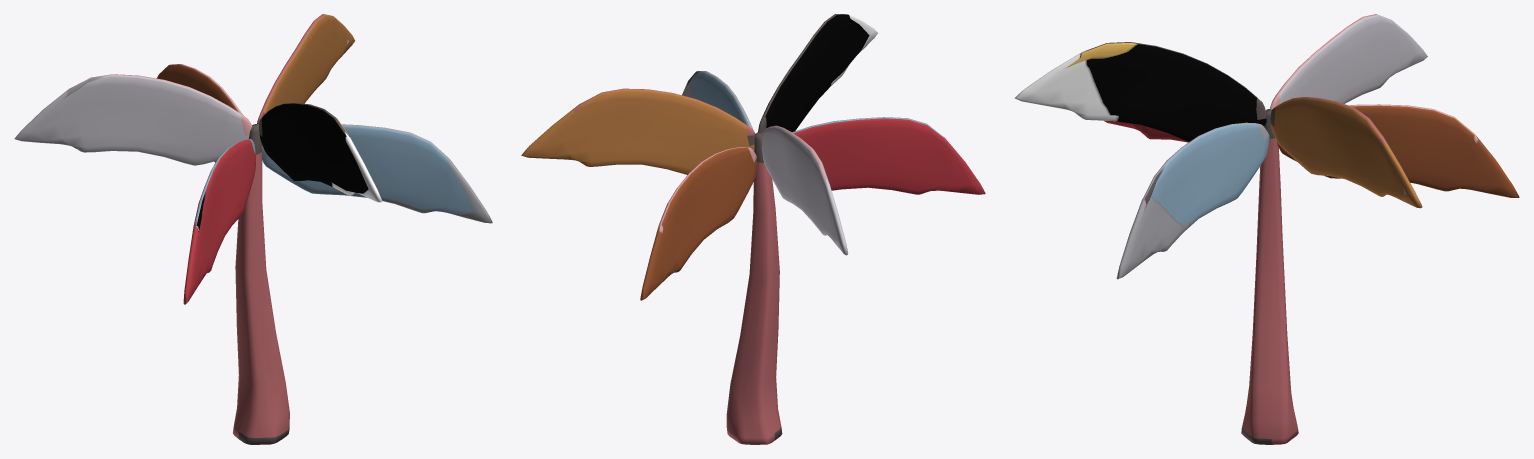
Rendered from PalmTree.fbx.
The picture shows the model from 3 angles, left to right: view 1: azimuth 30°, elevation 25°; view 2: azimuth 150°, elevation 25°; view 3: azimuth 270°, elevation 25°; orthographic projection. The views are drawn at different scales.
Parts seen in each view (by area): view 1: PalmTreeV2; view 2: PalmTreeV2; view 3: PalmTreeV2.
Part boxes in pixels (x1=…): PalmTreeV2: x1=14, y1=14, x2=492, y2=444; PalmTreeV2: x1=521, y1=14, x2=985, y2=444; PalmTreeV2: x1=1014, y1=14, x2=1519, y2=444.
Bounding box in the file's own units: 1604 × 1713 × 2003.
